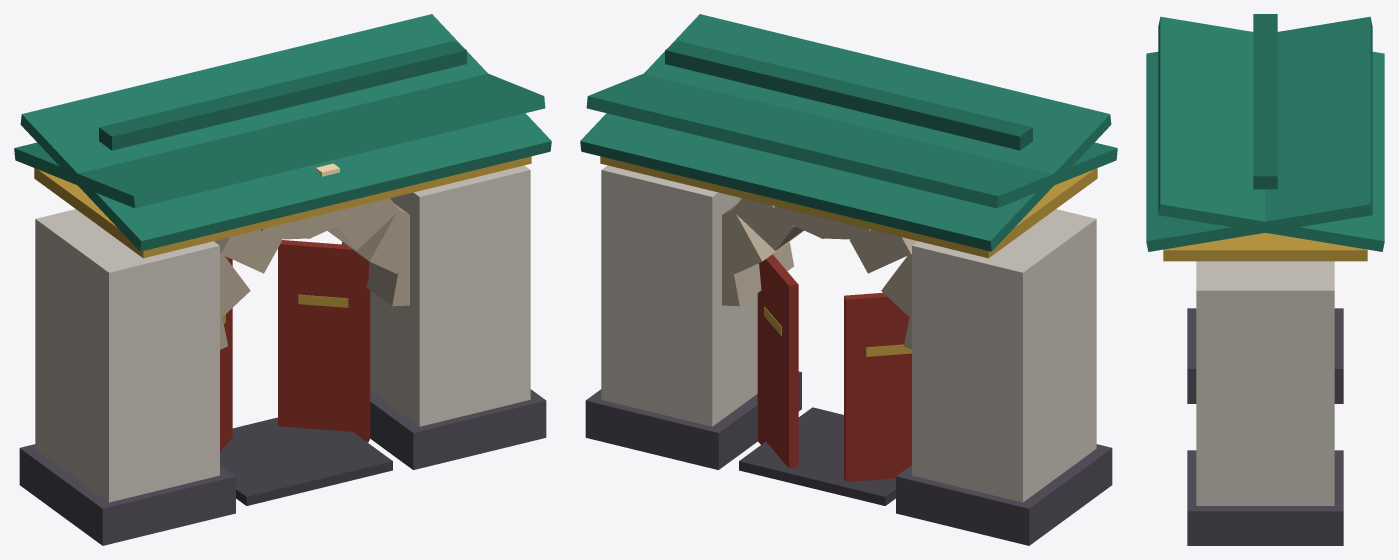
Rendered from asian-gate.glb.
3 renders of one model, left to right at view 1: azimuth 30°, elevation 25°; view 2: azimuth 150°, elevation 25°; view 3: azimuth 270°, elevation 25°, orthographic. The views are drawn at different scales.
Visible parts, largest first — view 1: body; view 2: body; view 3: body.
Part boxes in pixels (bbox=[...]): body: bbox=[14, 14, 551, 545]; body: bbox=[580, 14, 1117, 545]; body: bbox=[1146, 14, 1384, 545].
Bounding box in the file's own units: 4 × 3.21 × 1.99.
